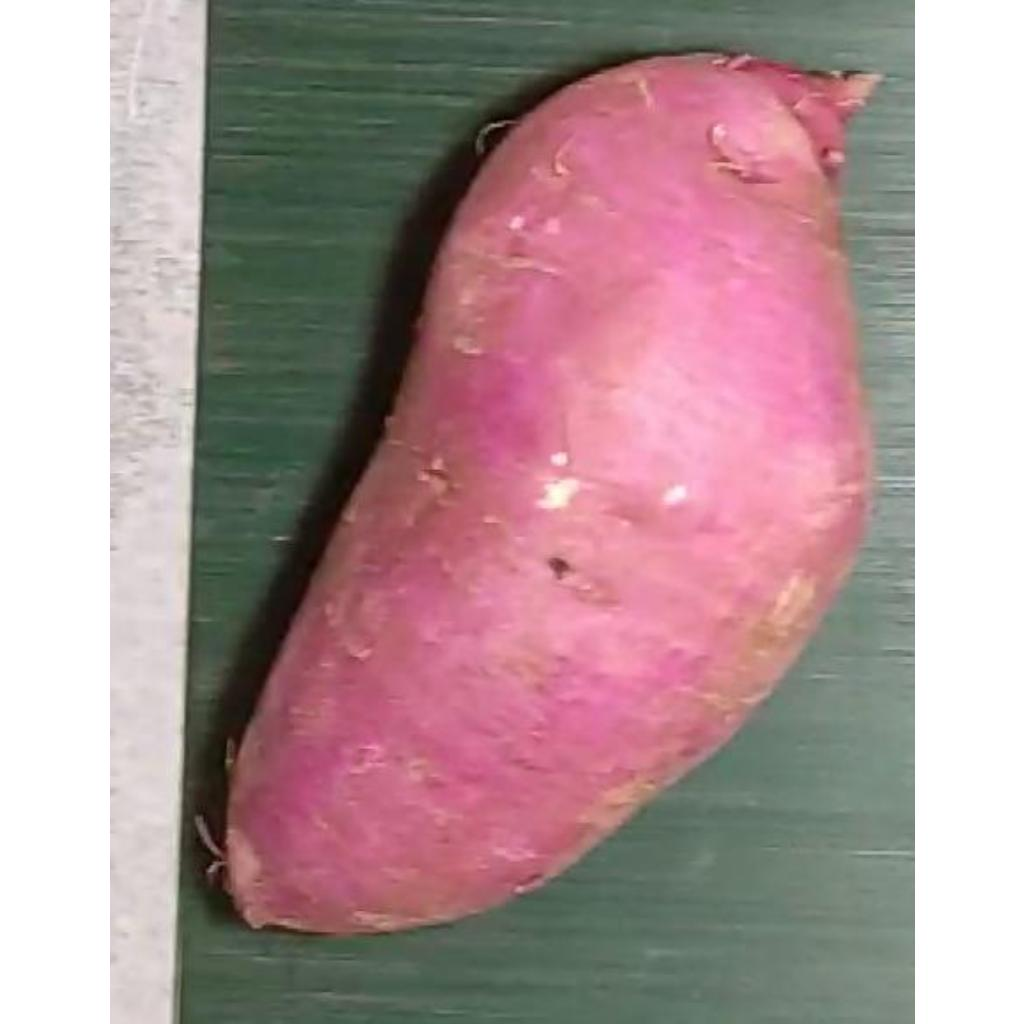Sweet Potato: (218, 49, 882, 939)
